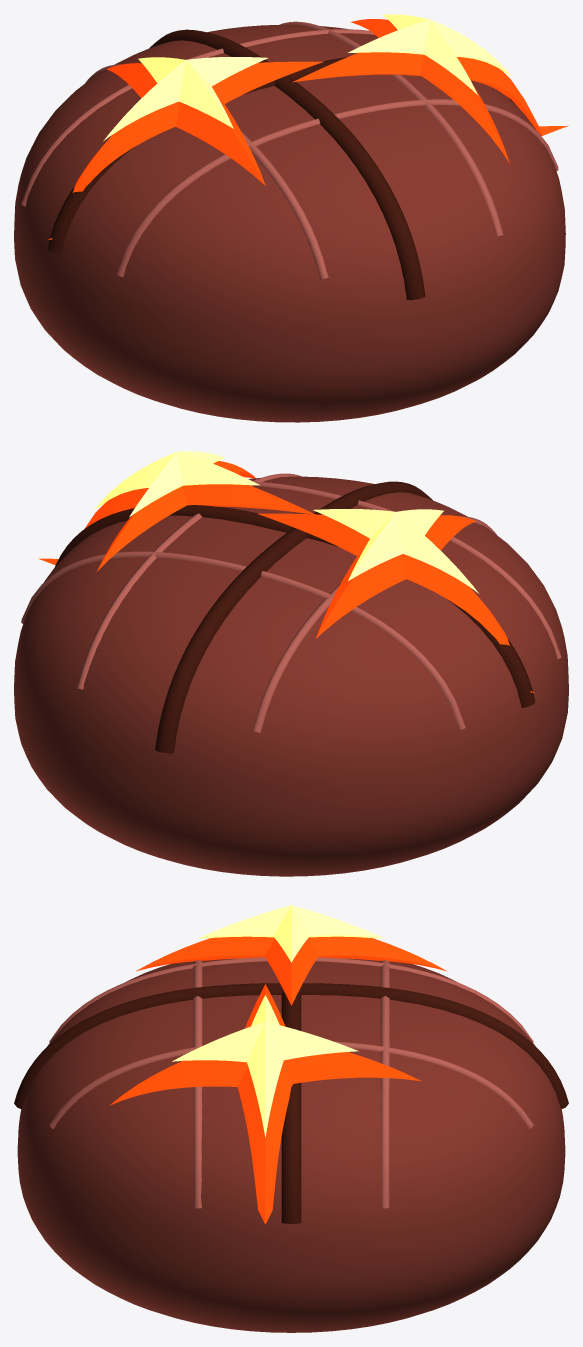
File: pu_starburst.glb
3 views of the same model, one above another, from view 1: azimuth 30°, elevation 25°; view 2: azimuth 150°, elevation 25°; view 3: azimuth 270°, elevation 25° (orthographic). The views are drawn at different scales.
Visible parts, largest first — view 1: orb, star, star_heart, orb_seam_4, orb_groove_4; view 2: orb, star, orb_groove_4, star_heart, orb_seam_4; view 3: orb, star, orb_groove_4, star_heart, orb_seam_4.
Part boxes in pixels (x1,y1,x2,y2): orb: (14, 24, 565, 422); star: (48, 19, 568, 239); star_heart: (103, 14, 512, 141); orb_seam_4: (21, 21, 558, 279); orb_groove_4: (47, 29, 519, 300); orb: (14, 476, 568, 876); star: (38, 461, 534, 692); orb_groove_4: (55, 481, 535, 753); star_heart: (94, 451, 478, 593); orb_seam_4: (21, 473, 561, 733); orb: (17, 958, 565, 1332); star: (109, 936, 446, 1224); orb_groove_4: (14, 983, 568, 1223); star_heart: (172, 905, 384, 1137); orb_seam_4: (49, 957, 533, 1208).
Size of the model in its own units: 22 by 13.63 by 21.27.
